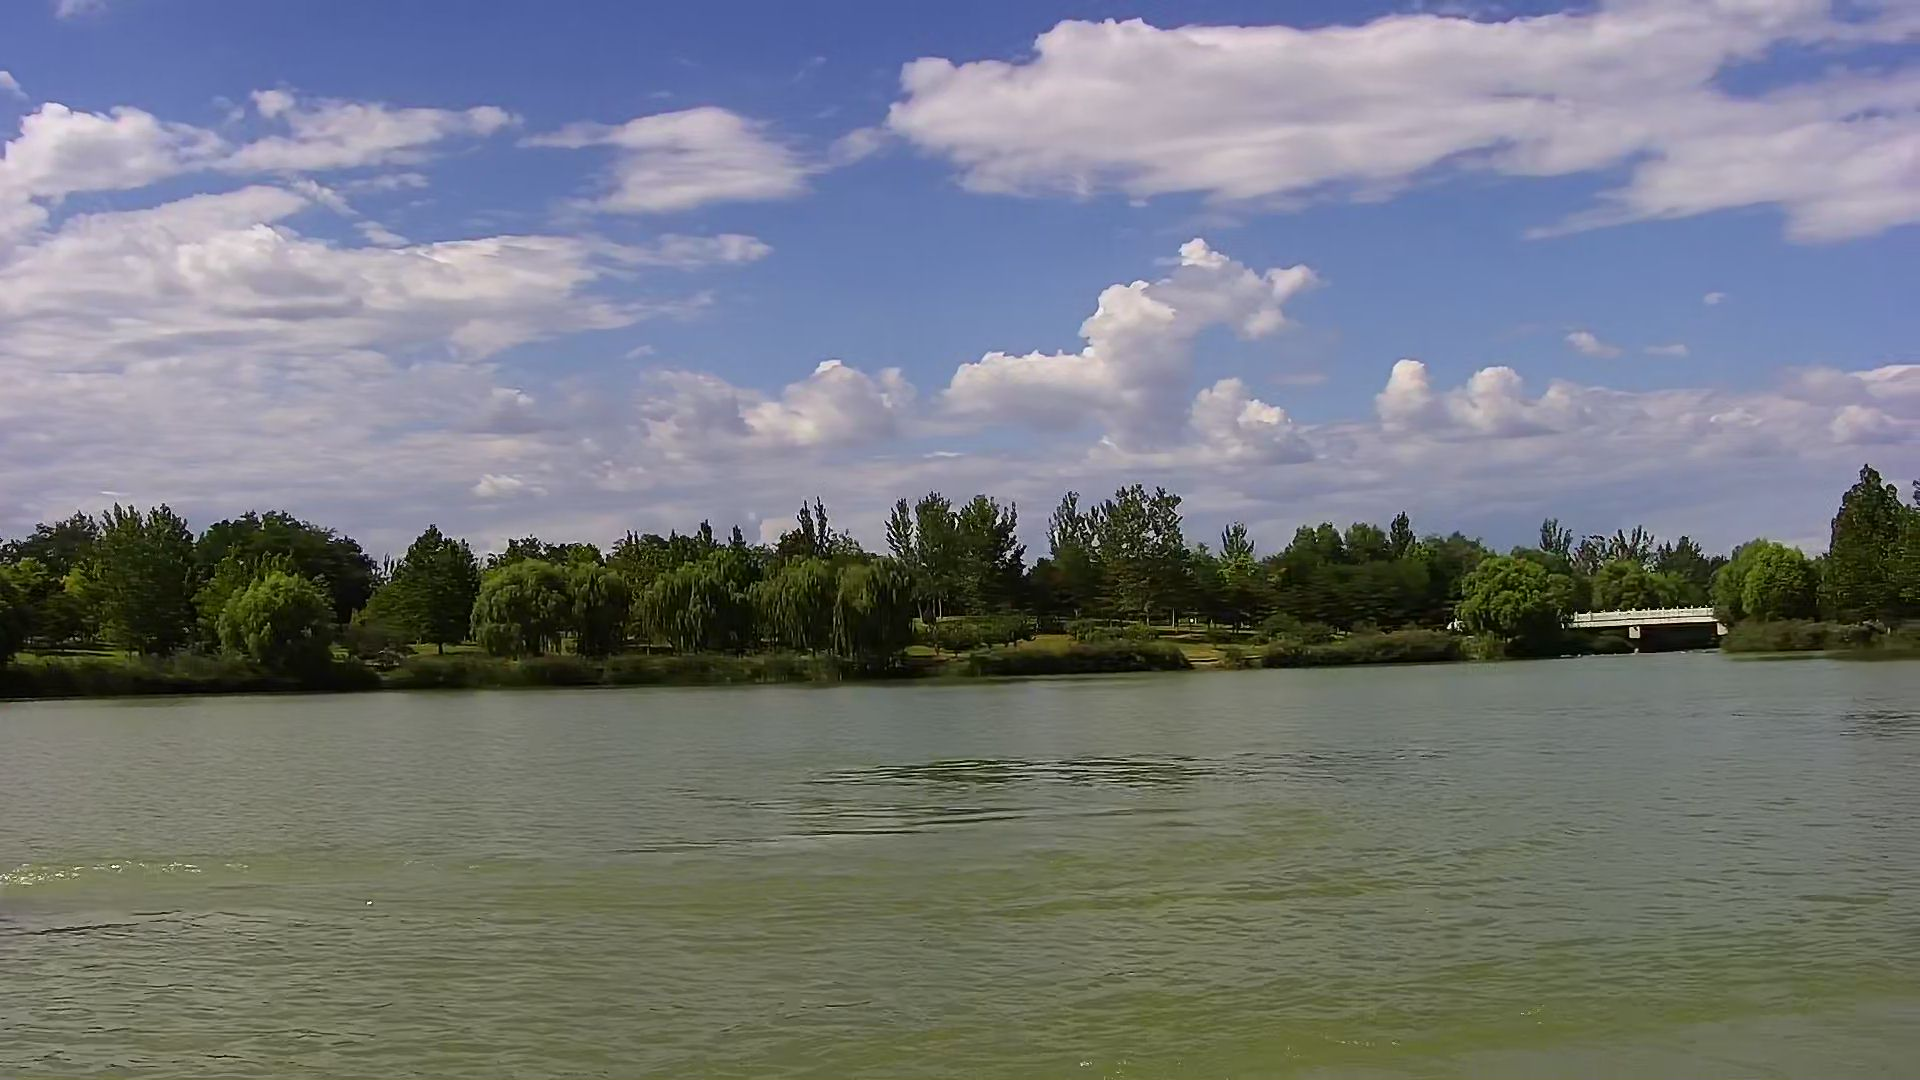bridge: (1569, 605, 1712, 649)
